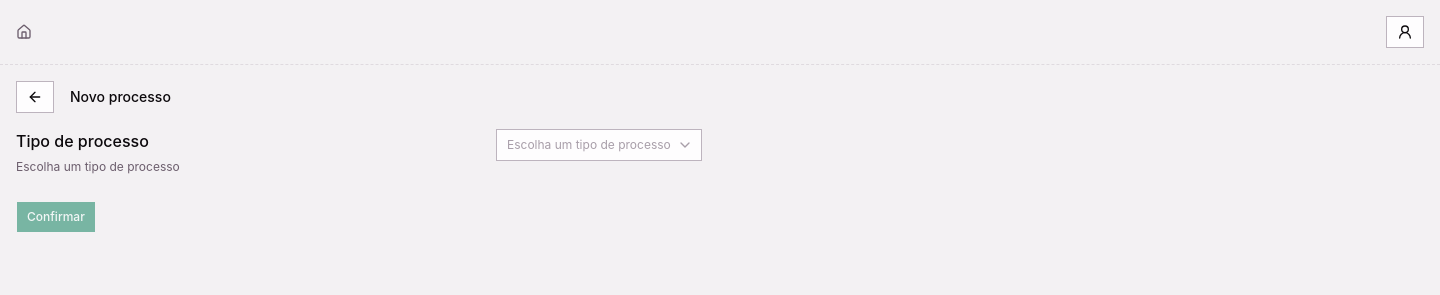
Test case: ProcessAddPage (T25 — WEB-07) › WEB-07 AC4: a server rejection shows the error and never navigates/renders as if the Process had been created
This screenshot has width=1440, height=295.
Click the dropdown: point(599, 145) [496,129,702,161]
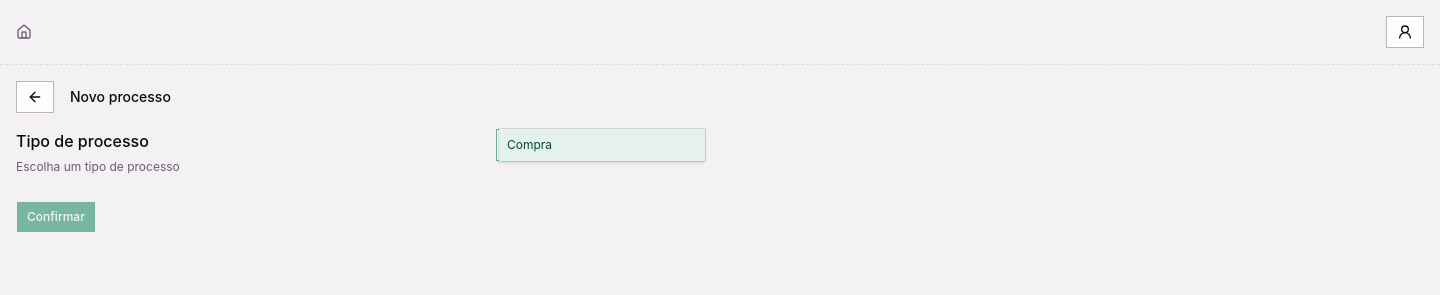
Click the option "Compra": point(602, 145) [499,129,705,161]
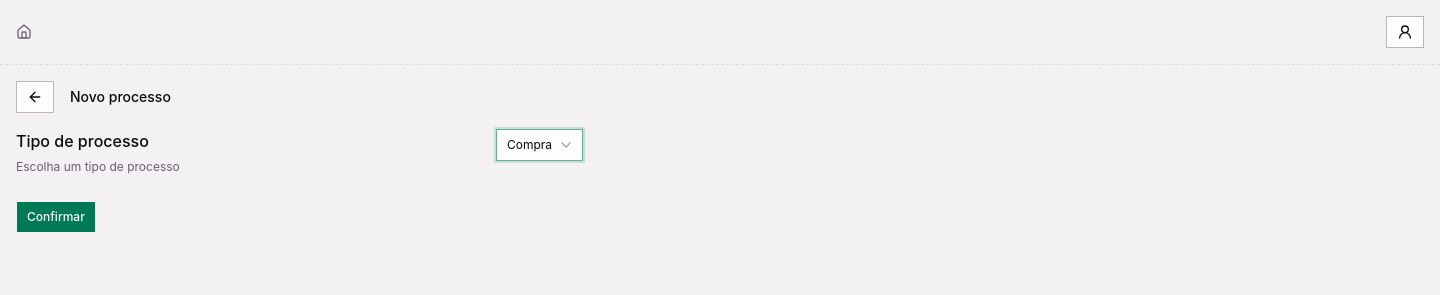
Click the button "Confirmar": point(56, 216) [16,200,96,232]
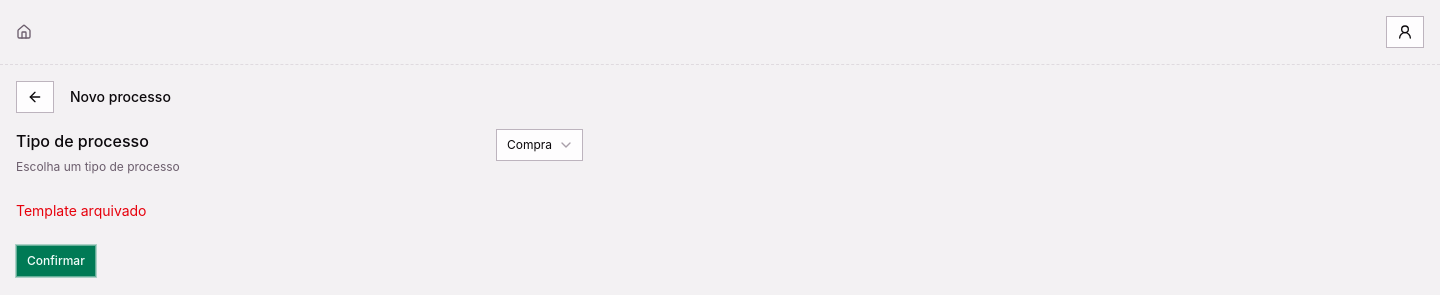
Expected: the dropdown is shown, [496,129,583,161]
Now the message reads "Template arquivado", box [16,202,146,218]
